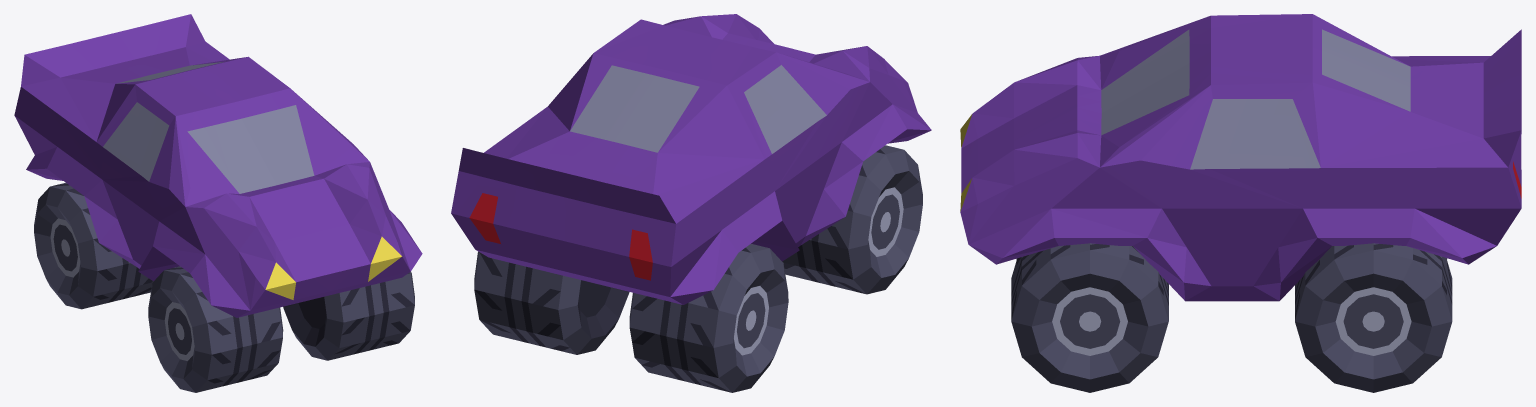
Rendered from Car_Purple.fbx.
3 renders of one model, left to right at view 1: azimuth 30°, elevation 25°; view 2: azimuth 150°, elevation 25°; view 3: azimuth 270°, elevation 25°, orthographic. The views are drawn at different scales.
Visible parts, largest first — view 1: Car_Purple; view 2: Car_Purple; view 3: Car_Purple.
Boxes of the visible parts, x1,y1,x2,y2 form: Car_Purple: [14, 14, 422, 392]; Car_Purple: [451, 14, 931, 392]; Car_Purple: [960, 14, 1521, 392].
Bounding box in the file's own units: 108 × 107 × 193.
